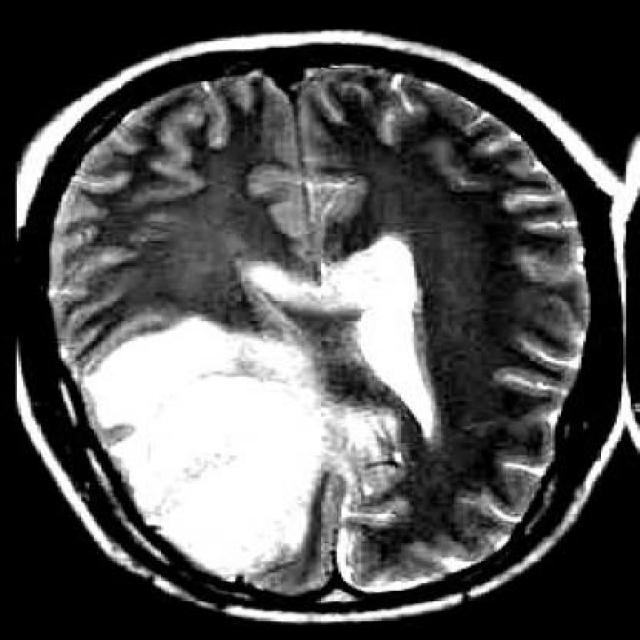Tumor: (101, 330, 290, 492)
